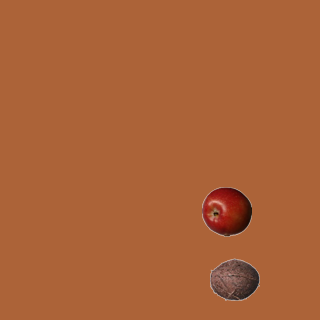Apple Braeburn: (201, 186, 251, 236)
Cocos: (209, 254, 259, 304)
